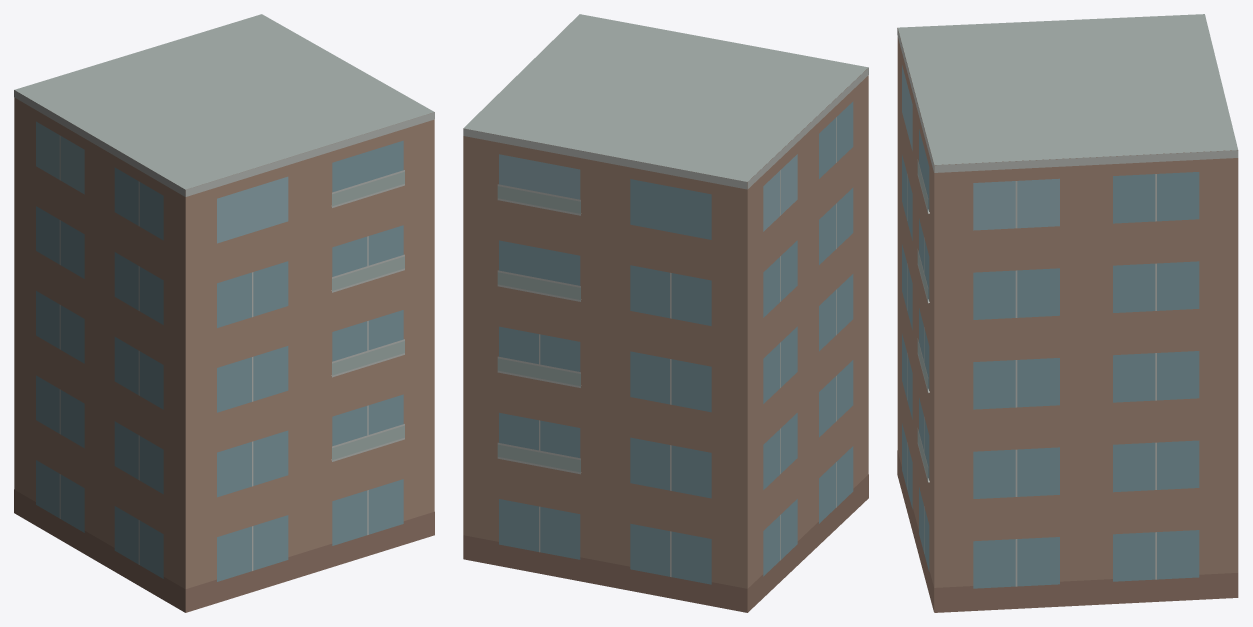
File: survey-upis-32816914.glb
3 renders of one model, left to right at view 1: azimuth 30°, elevation 25°; view 2: azimuth 150°, elevation 25°; view 3: azimuth 270°, elevation 25°, orthographic. The views are drawn at different scales.
Parts seen in each view (by area): view 1: survey-upis-32816914.tmp; view 2: survey-upis-32816914.tmp; view 3: survey-upis-32816914.tmp.
Part boxes in pixels (<box>): survey-upis-32816914.tmp: <box>14,14,434,612</box>; survey-upis-32816914.tmp: <box>463,14,868,612</box>; survey-upis-32816914.tmp: <box>897,14,1238,612</box>.
Size of the model in its own units: 10.07 by 13.9 by 9.6.
